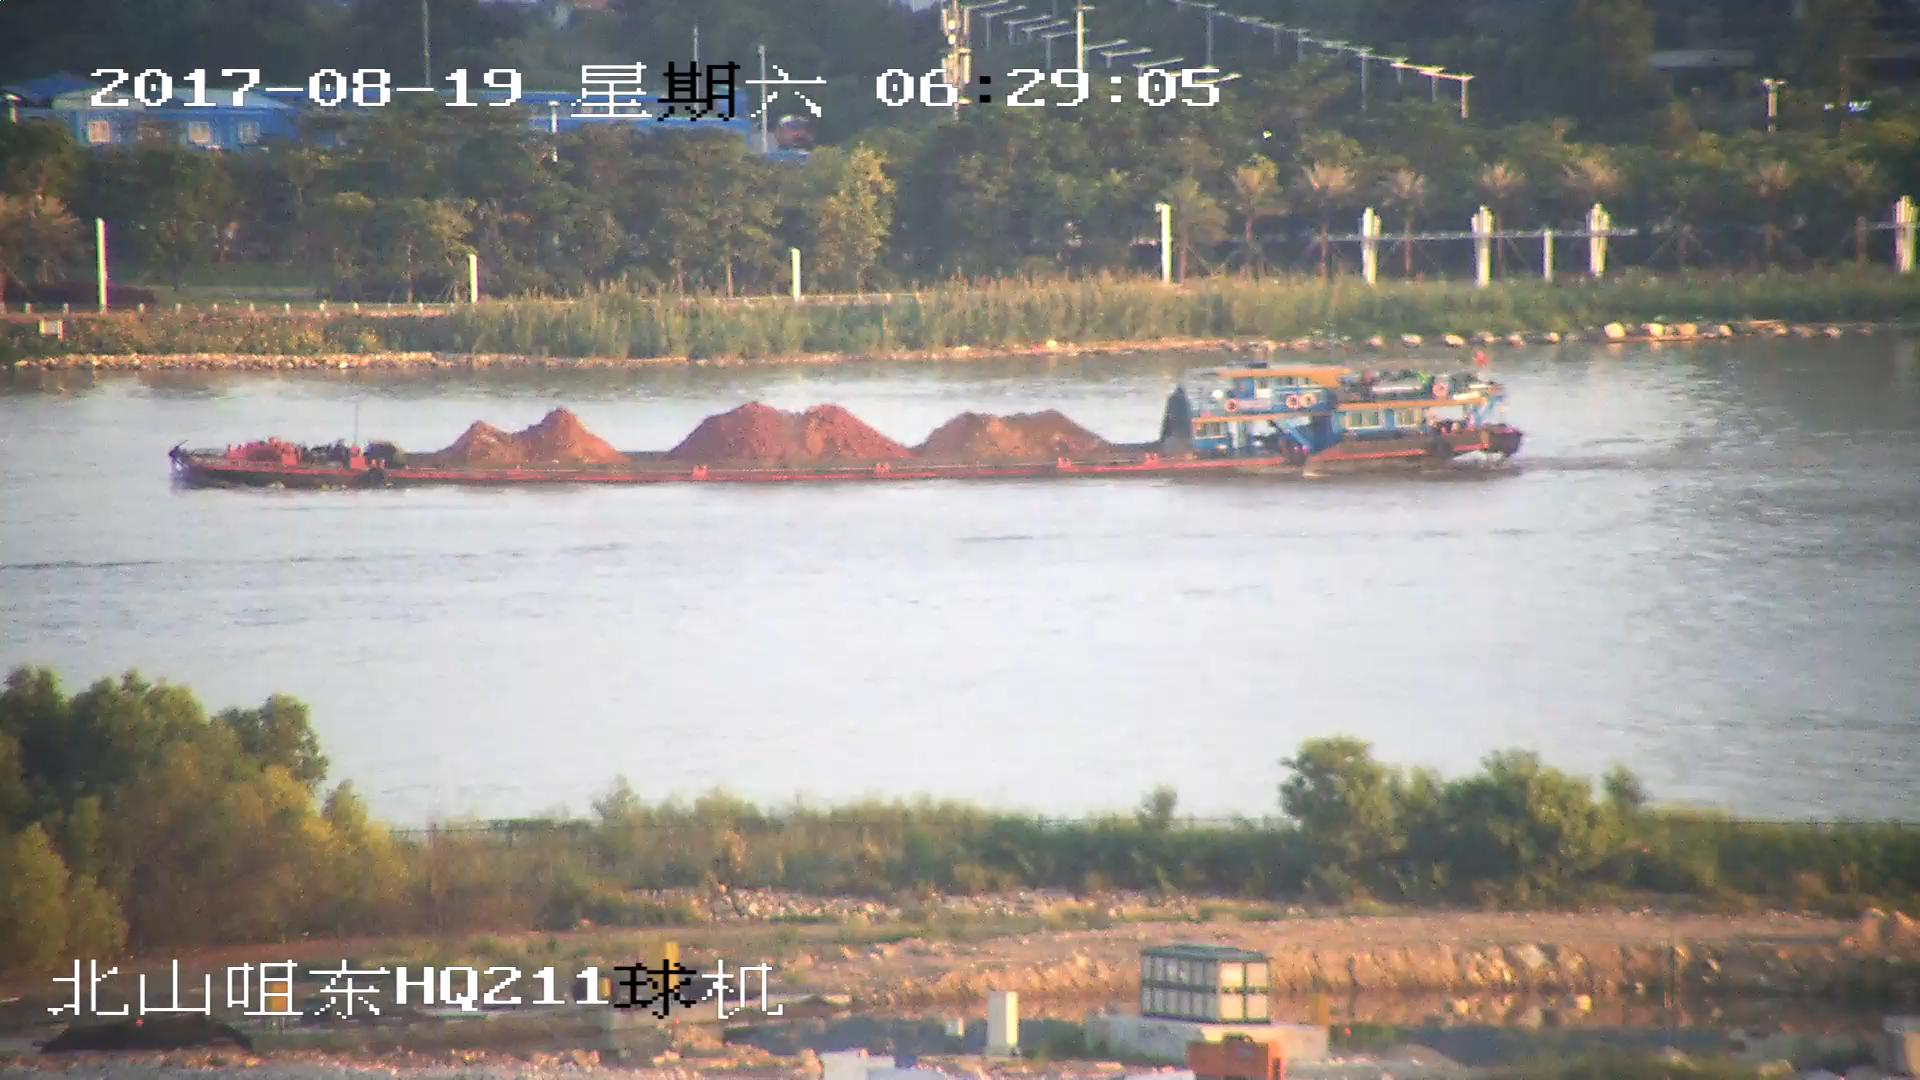ore carrier: (170, 359, 1526, 492)
